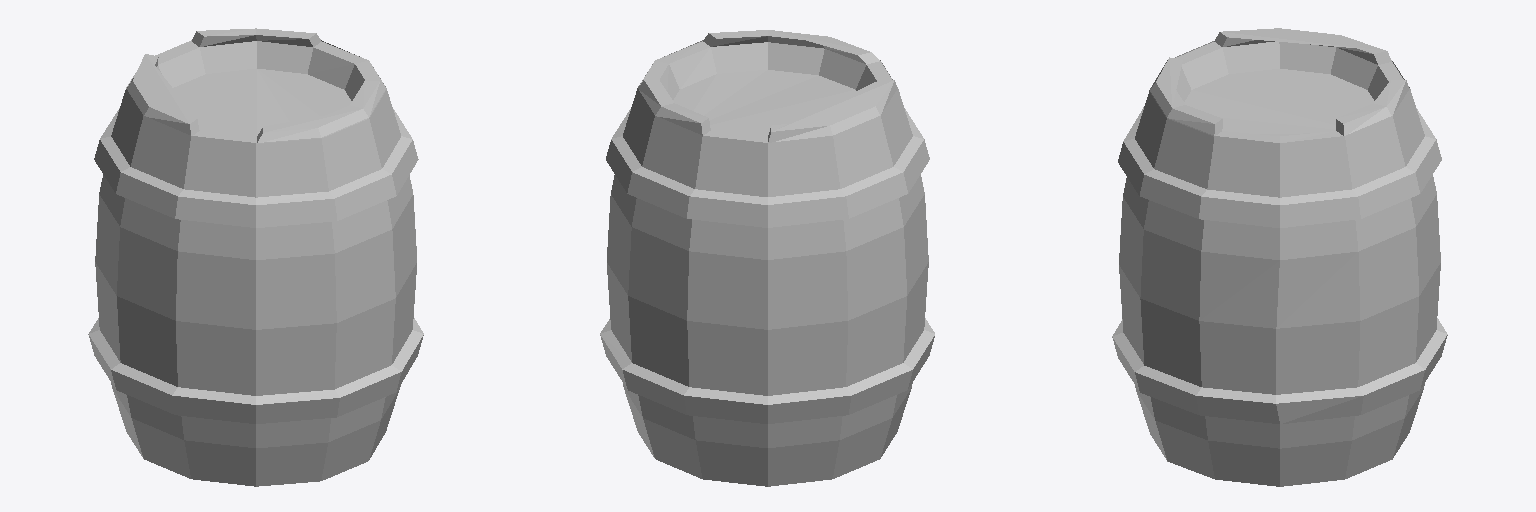
File: Barril.obj
3 views of the same model, side by side, from view 1: azimuth 30°, elevation 25°; view 2: azimuth 150°, elevation 25°; view 3: azimuth 270°, elevation 25° (orthographic).
Parts seen in each view (by area): view 1: Cilindro; view 2: Cilindro; view 3: Cilindro.
Boxes of the visible parts, box(x1,y1,x2,y2) form: Cilindro: box(88, 28, 423, 486); Cilindro: box(600, 30, 934, 486); Cilindro: box(1112, 28, 1447, 486).
Bounding box in the file's own units: 1.82 × 2.13 × 1.82.